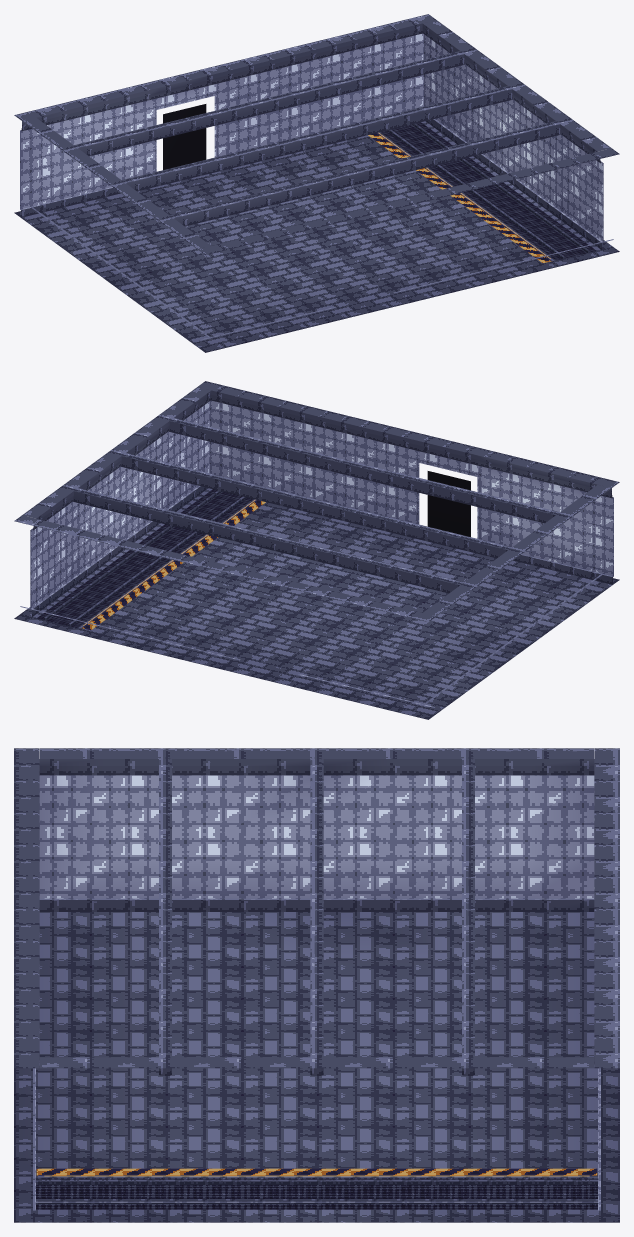
The model's file is cyroom.subway__arena.glb.
3 renders of one model, top to bottom at view 1: azimuth 30°, elevation 25°; view 2: azimuth 150°, elevation 25°; view 3: azimuth 270°, elevation 25°, orthographic. The views are drawn at different scales.
Parts seen in each view (by area): view 1: kit_shell_floor, kit_shell_walls, kit_shell_rig, kit_card_lights, kit_trim; view 2: kit_shell_floor, kit_shell_walls, kit_shell_rig, kit_card_lights, kit_trim; view 3: kit_shell_floor, kit_shell_walls, kit_shell_rig, kit_trim, kit_card_lights.
Boxes of the visible parts, x1,y1,x2,y2 form: kit_shell_floor: [14, 121, 619, 352]; kit_shell_walls: [14, 14, 619, 340]; kit_shell_rig: [73, 51, 560, 226]; kit_card_lights: [163, 104, 550, 258]; kit_trim: [387, 123, 589, 259]; kit_shell_floor: [14, 488, 619, 719]; kit_shell_walls: [14, 381, 619, 707]; kit_shell_rig: [73, 418, 560, 593]; kit_card_lights: [83, 471, 470, 625]; kit_trim: [44, 490, 246, 626]; kit_shell_floor: [14, 912, 619, 1222]; kit_shell_walls: [14, 748, 619, 1210]; kit_shell_rig: [159, 757, 474, 1075]; kit_trim: [36, 1179, 597, 1203]; kit_card_lights: [44, 1175, 589, 1176].
Bounding box in the file's own units: 20 × 4.5 × 16.
8 materials, 8 textured.
